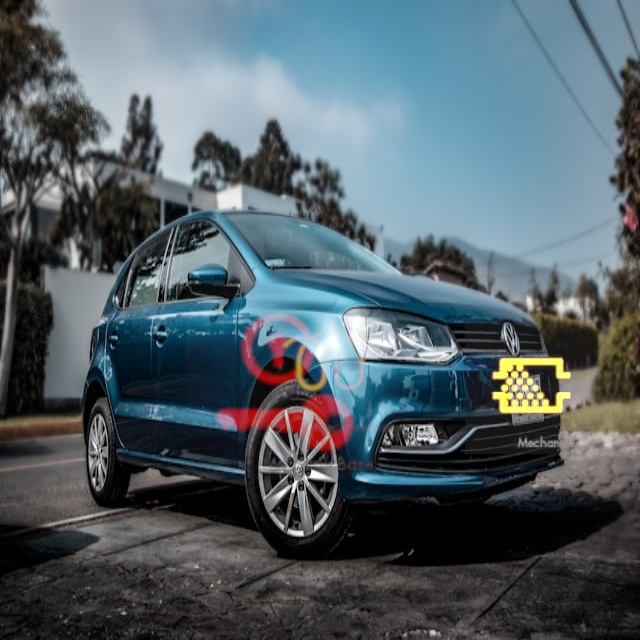symbol: (186, 285, 381, 480), (252, 283, 409, 440), (465, 319, 600, 454)
